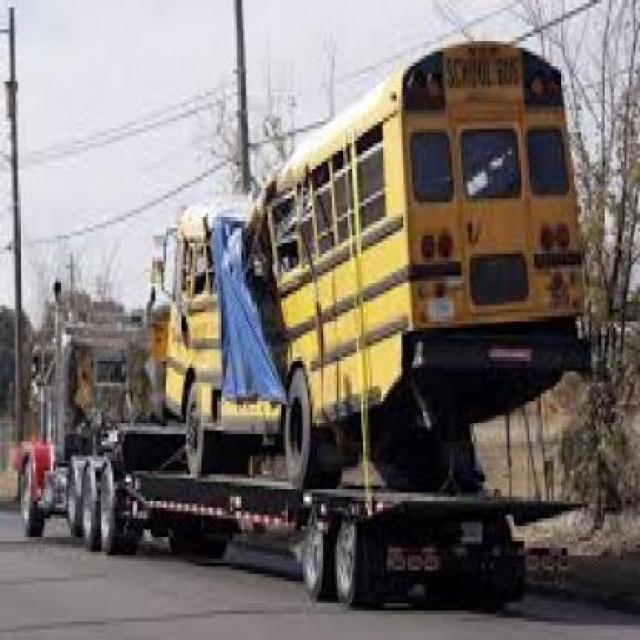accident: (134, 28, 568, 522)
